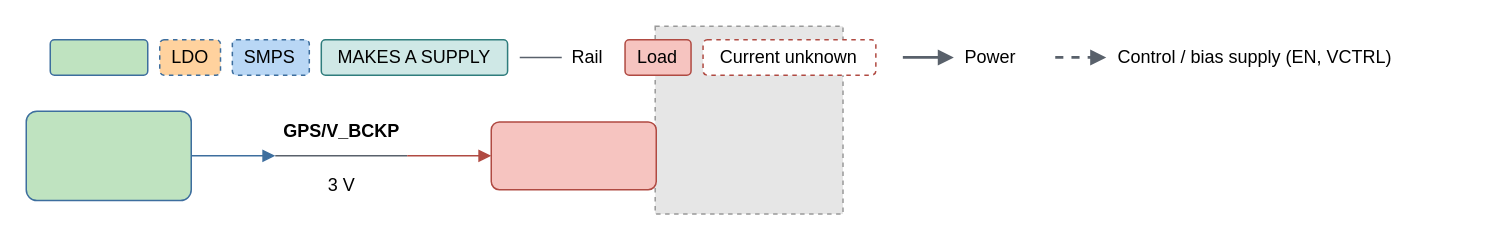
Image size: 1490x242. Some labels were removed from this diagram. Grey dashed boxes stand in for pictures. Here are the shapes that lost their labels. From the top down, the centre of each, then its label:
[98,56]: SOURCE
[108,155]: BATTERY BT1 3 V out
[573,155]: U12 3 µA
